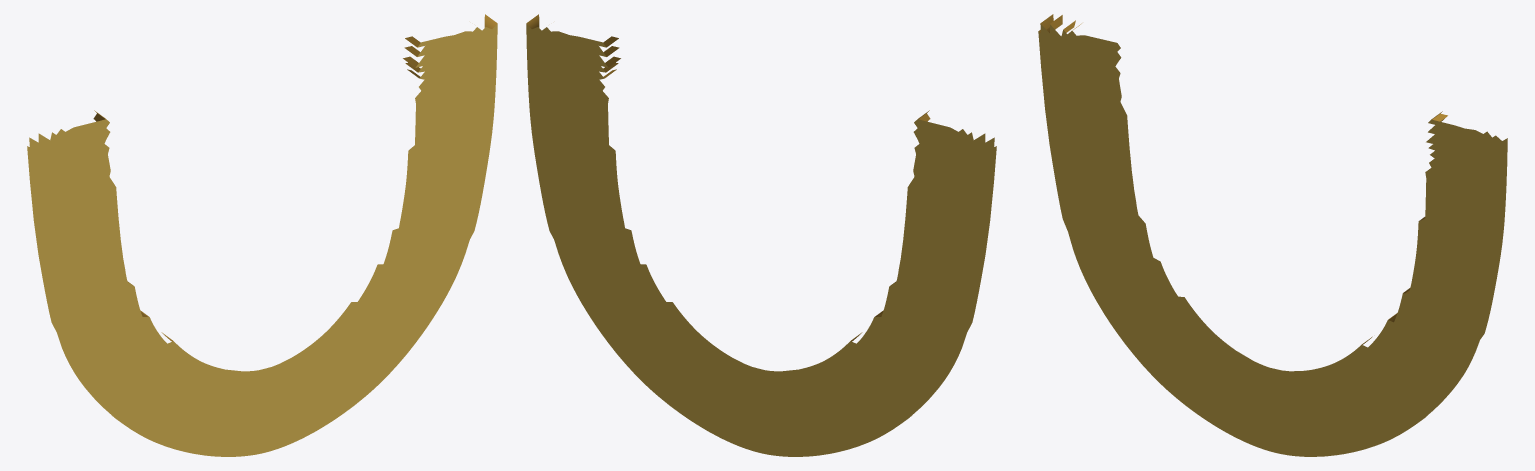
Rendered from SG-HEEL-POST-U_LEFT_addon.glb.
The picture shows the model from 3 angles, left to right: view 1: azimuth 30°, elevation 25°; view 2: azimuth 150°, elevation 25°; view 3: azimuth 330°, elevation 25°; orthographic projection.
Parts seen in each view (by area): view 1: world; view 2: world; view 3: world.
Part boxes in pixels (bbox=[...]): world: bbox=[27, 14, 497, 456]; world: bbox=[526, 14, 996, 456]; world: bbox=[1038, 14, 1507, 456].
Size of the model in its own units: 67.57 by 51.41 by 3.2.
